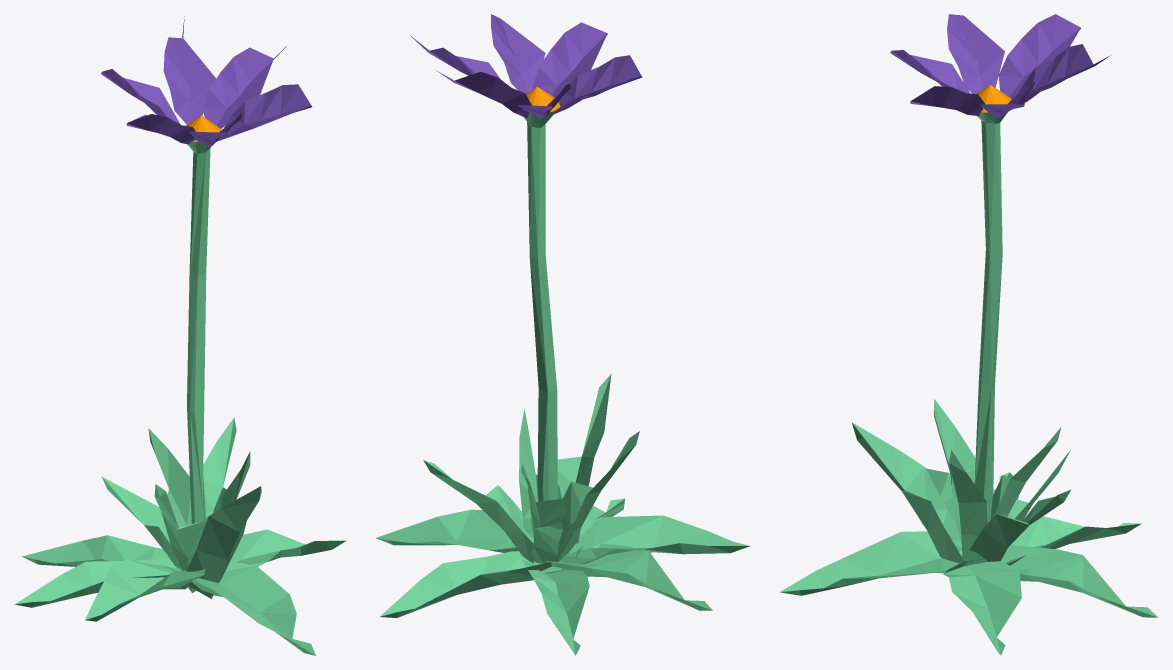
The model's file is purpleLong_lod1.glb.
3 views of the same model, side by side, from view 1: azimuth 30°, elevation 25°; view 2: azimuth 150°, elevation 25°; view 3: azimuth 270°, elevation 25° (orthographic). The views are drawn at different scales.
Parts seen in each view (by area): view 1: group481568313, group1366698634; view 2: group481568313, group1366698634; view 3: group481568313, group1366698634.
Part boxes in pixels (x1,y1,x2,y2): group481568313: (14,115,346,655); group1366698634: (101,16,311,146); group481568313: (376,86,749,655); group1366698634: (409,14,642,118); group481568313: (779,84,1157,655); group1366698634: (890,14,1110,117).
Size of the model in its own units: 1.7 by 2.59 by 1.6.
